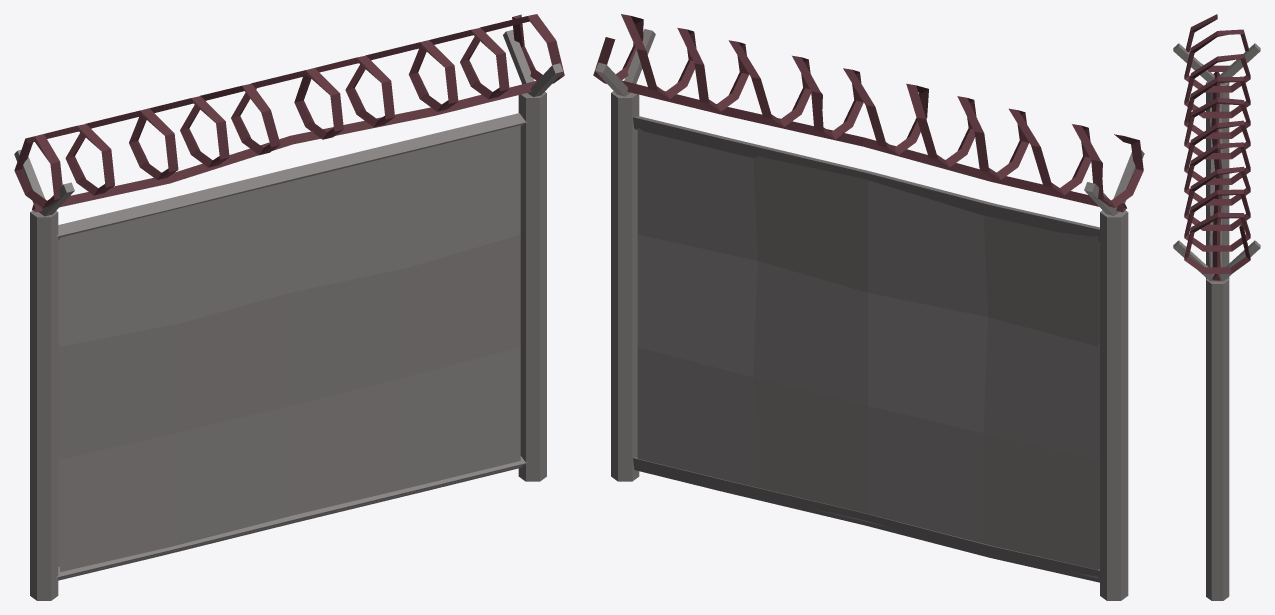
The model's file is fence-wire.fbx.
3 views of the same model, side by side, from view 1: azimuth 30°, elevation 25°; view 2: azimuth 150°, elevation 25°; view 3: azimuth 270°, elevation 25° (orthographic). The views are drawn at different scales.
Parts seen in each view (by area): view 1: fence-wire; view 2: fence-wire; view 3: fence-wire.
Part boxes in pixels (x1=…): fence-wire: x1=14, y1=14, x2=564, y2=600; fence-wire: x1=593, y1=14, x2=1144, y2=600; fence-wire: x1=1173, y1=14, x2=1260, y2=600.
Bounding box in the file's own units: 4.19 × 3.61 × 0.7467.
